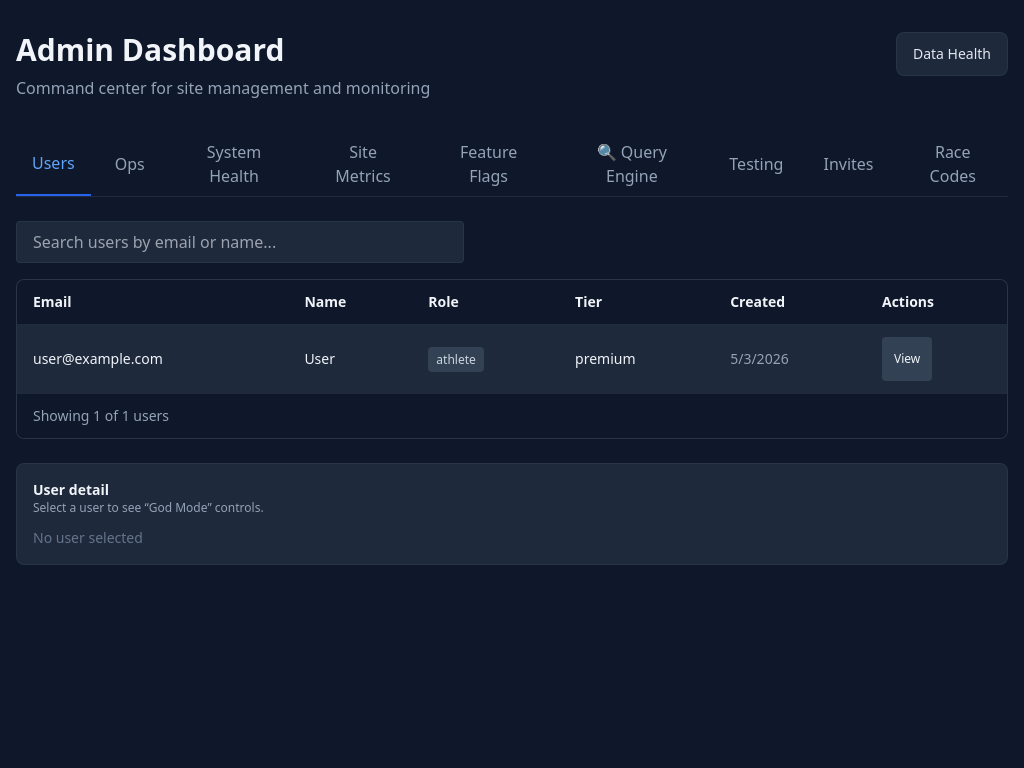
Scenario: Admin comp override controls › renders override badge and clear button when admin_tier_override is set
Click the button "View" at (907, 359), box x1=882 y1=337 x2=932 y2=381
(page scrolled)
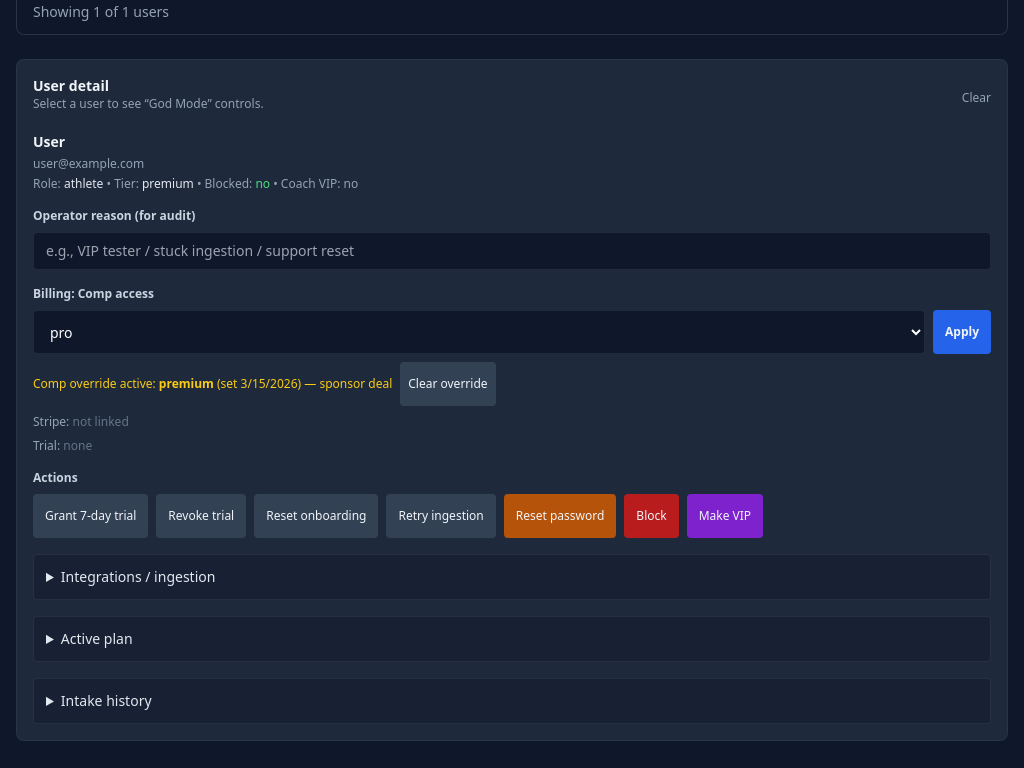
Result: the text "Comp override active: premium (set 3/15/2026) — sponsor deal" is shown at x1=33 y1=376 x2=392 y2=392
Result: the button "Clear override" is shown at x1=400 y1=362 x2=496 y2=406
